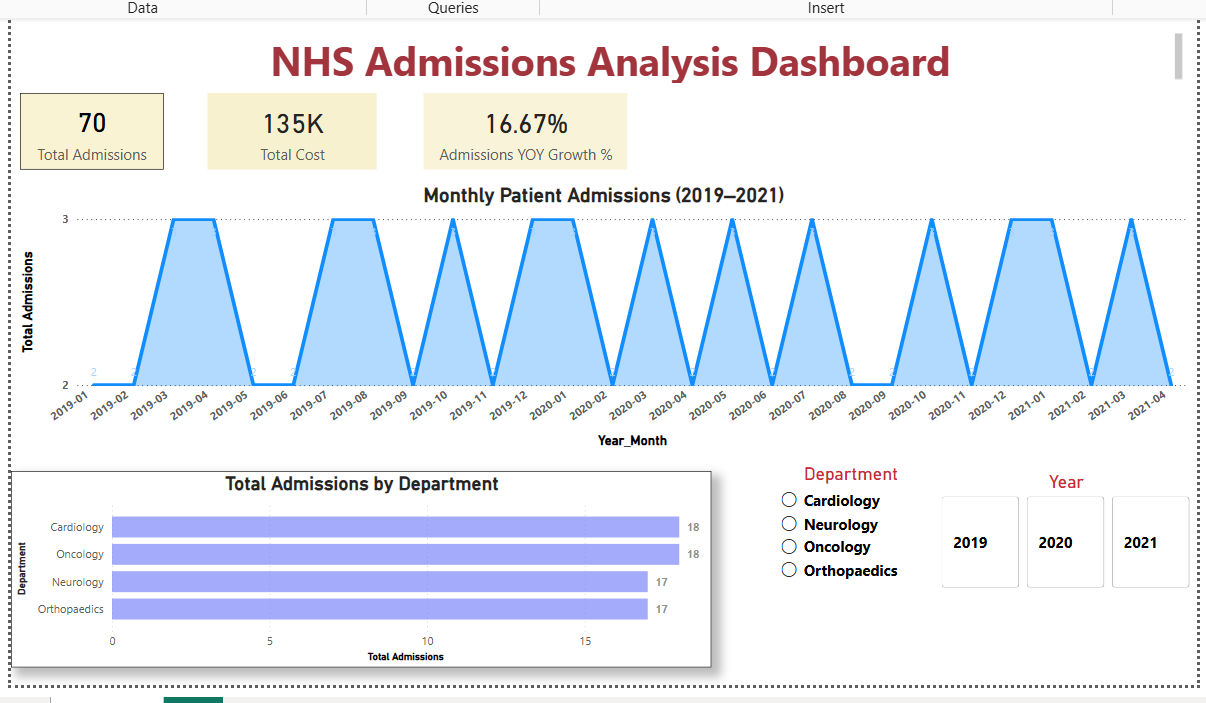

Layout of this report page (visuals, bound fields, positions):
{"tool":"powerbi","page":{"name":"Page 1","canvas":[1280,720],"ordinal":0},"visuals":[{"type":"card","fields":{"Values":["NHS Data.Total Admissions"]},"box":[9.7,81,155.4,82.6],"z":0},{"type":"card","fields":{"Values":["NHS Data.Total Cost"]},"box":[212.1,81,183,82.6],"z":1000},{"type":"card","fields":{"Values":["NHS Data.Admissions YOY Growth %"]},"box":[445.3,81,220.2,82.6],"z":2000},{"type":"lineChart","title":"Monthly Patient Admissions (2019–2021)","fields":{"Y":["NHS Data.Total Admissions"],"Category":["Date.Year_Month"]},"box":[5.3,178.1,1269.5,289.8],"z":3000},{"type":"clusteredBarChart","title":"Total Admissions by Department","fields":{"Y":["NHS Data.Total Admissions"],"Category":["NHS Data.Department"]},"box":[0,489,756.2,212.1],"z":4000},{"type":"advancedSlicerVisual","fields":{"Values":["Date.Year"]},"box":[999.1,489,280.1,131.2],"z":5000},{"type":"listSlicer","fields":{"Values":["NHS Data.Department"]},"box":[825.8,480.9,161.9,239.6],"z":6000},{"type":"textbox","box":[1000,0,280,150],"z":7000},{"type":"textbox","box":[32.4,11.3,1237.1,63.1],"z":8000}]}

Visuals, with their boxes on the page's 1280x720 design canvas (x1, y1, x2, y2). These are canvas units, not pixel positions in the 1206x703 screenshot, which may show the page scaled, cropped or inside an application window:
card - NHS Data.Total Admissions: region(10, 81, 165, 164)
card - NHS Data.Total Cost: region(212, 81, 395, 164)
card - NHS Data.Admissions YOY Growth %: region(445, 81, 666, 164)
"Monthly Patient Admissions (2019–2021)" lineChart: region(5, 178, 1275, 468)
"Total Admissions by Department" clusteredBarChart: region(0, 489, 756, 701)
advancedSlicerVisual - Date.Year: region(999, 489, 1279, 620)
listSlicer - NHS Data.Department: region(826, 481, 988, 720)
textbox: region(1000, 0, 1280, 150)
textbox: region(32, 11, 1270, 74)
